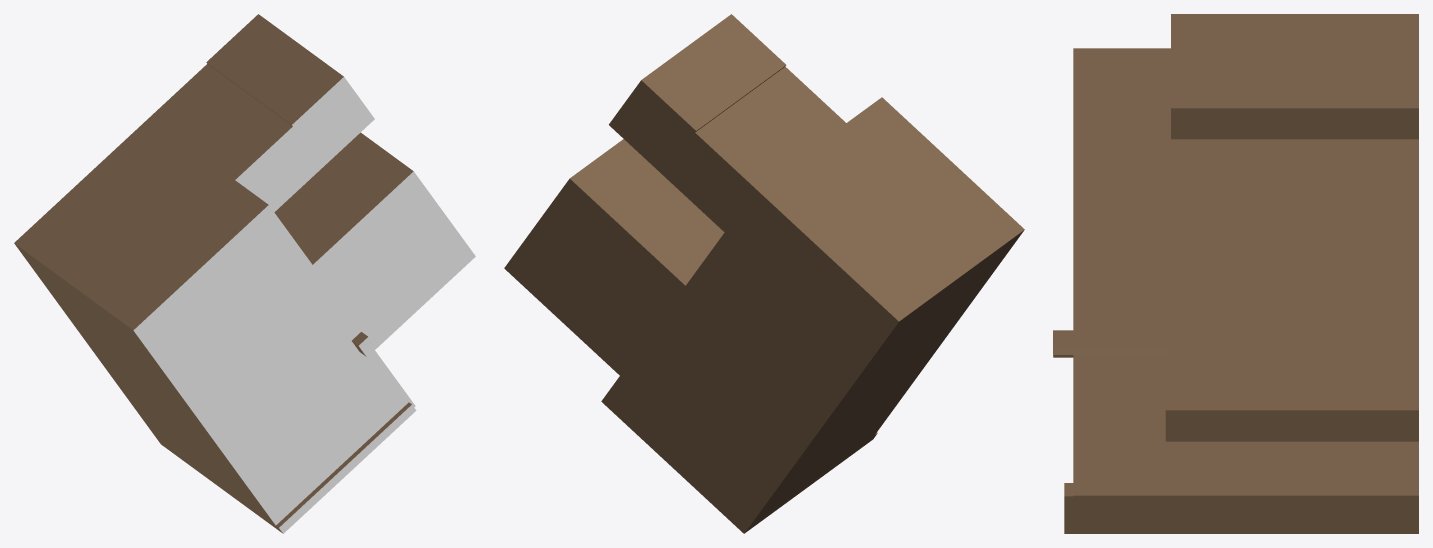
3 renders of one model, left to right at view 1: azimuth 30°, elevation 25°; view 2: azimuth 150°, elevation 25°; view 3: azimuth 270°, elevation 25°, orthographic. The views are drawn at different scales.
Parts seen in each view (by area): view 1: City_2316951; view 2: City_2316951; view 3: City_2316951.
Part boxes in pixels (x1=…): City_2316951: x1=14, y1=14, x2=475, y2=533; City_2316951: x1=504, y1=14, x2=1024, y2=533; City_2316951: x1=1053, y1=14, x2=1418, y2=533.
Bounding box in the file's own units: 2680 × 2780 × 1566.
